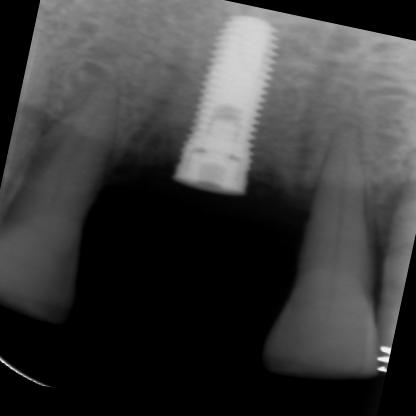Bego: (168, 2, 286, 204)
